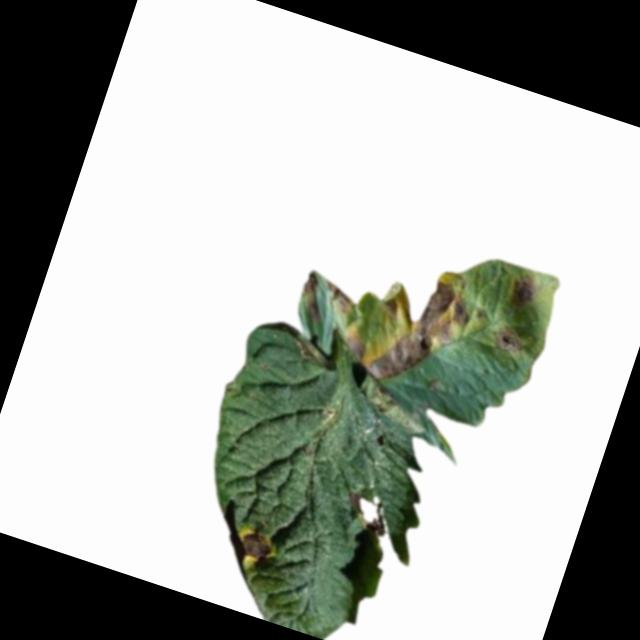Early_blight: (283, 229, 484, 404), (341, 487, 395, 537), (237, 523, 281, 565), (502, 270, 543, 315), (490, 320, 529, 357)
